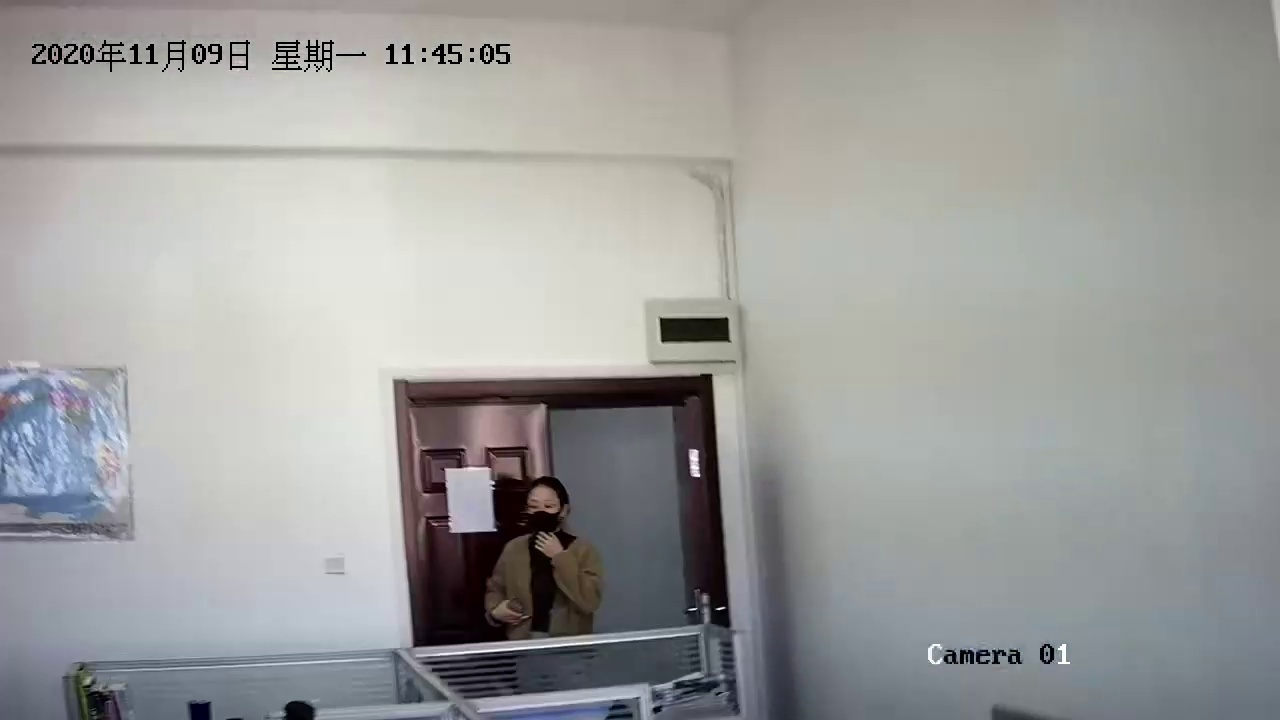mask: (518, 466, 585, 544)
